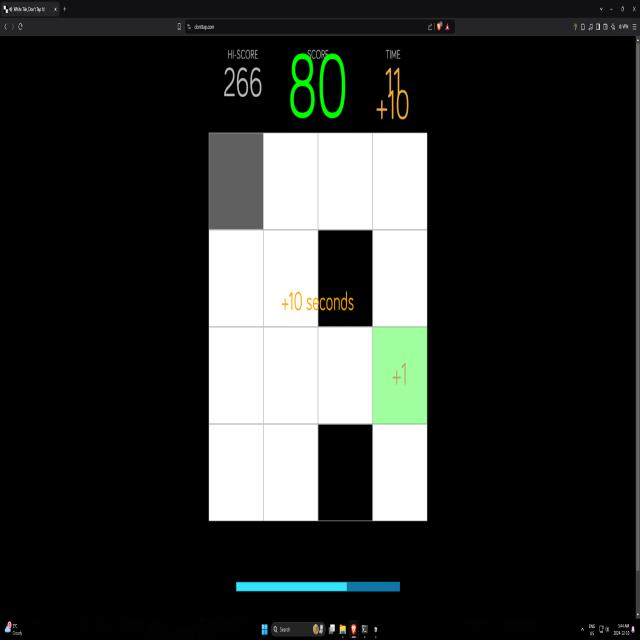black-tile: (316, 227, 374, 330), (316, 421, 374, 522)
